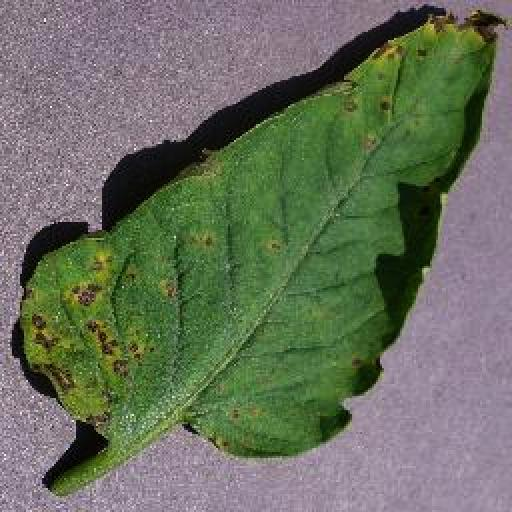disease_tomato: (24, 9, 502, 459)
